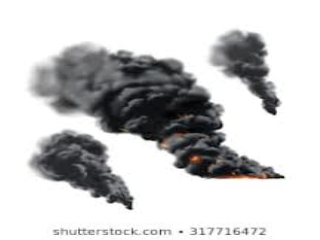smoke: (44, 46, 281, 179), (30, 133, 130, 207), (213, 30, 284, 121)
